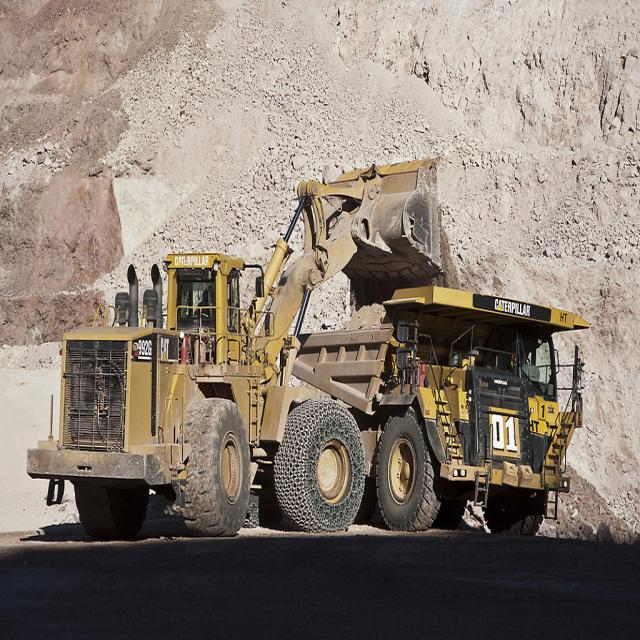buldozerpayloadergrader: (23, 102, 447, 556)
dump_truck: (282, 282, 598, 558)
